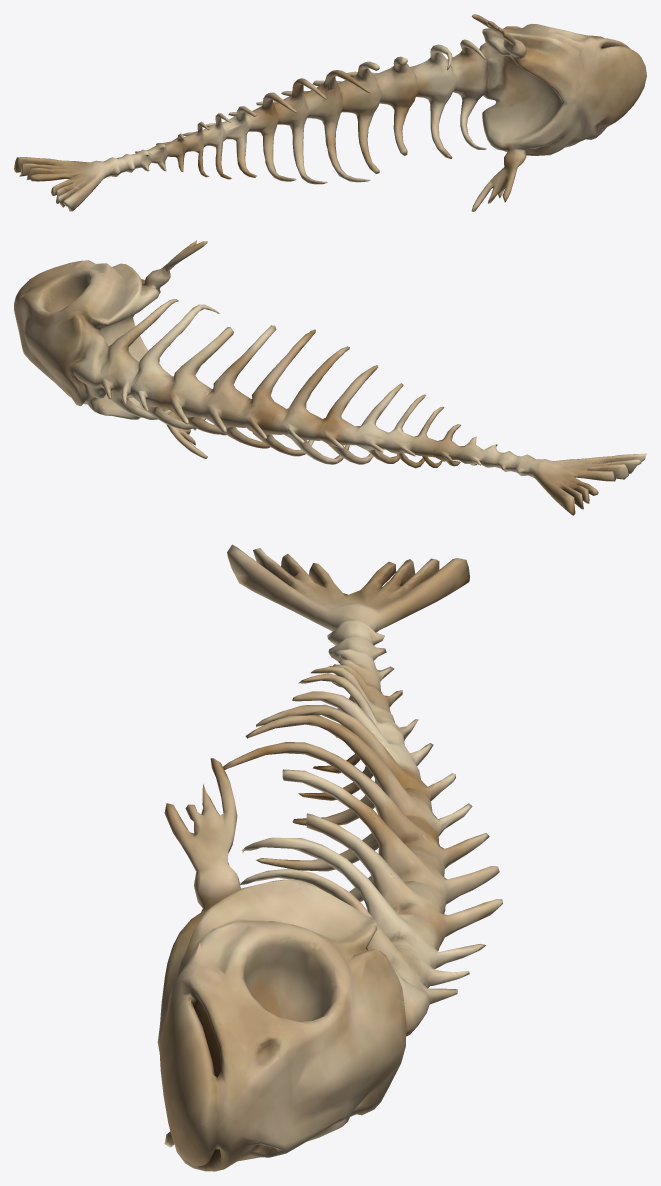
The model's file is bone_cracked_s.glb.
The picture shows the model from 3 angles, top to bottom: view 1: azimuth 30°, elevation 25°; view 2: azimuth 150°, elevation 25°; view 3: azimuth 270°, elevation 25°; orthographic projection. The views are drawn at different scales.
Parts seen in each view (by area): view 1: bone_cracked_s; view 2: bone_cracked_s; view 3: bone_cracked_s.
Part boxes in pixels (<box>): bone_cracked_s: <box>14,14,646,211</box>; bone_cracked_s: <box>14,240,646,515</box>; bone_cracked_s: <box>157,544,502,1171</box>.
Size of the model in its own units: 0.3 by 0.098 by 0.0779.
1 material, 1 textured.
